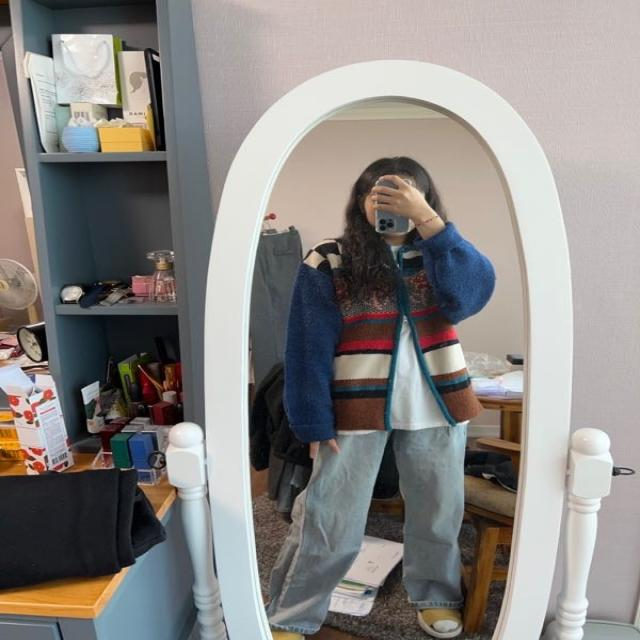cardigan: (287, 227, 497, 447)
denimpants: (268, 400, 473, 631)
